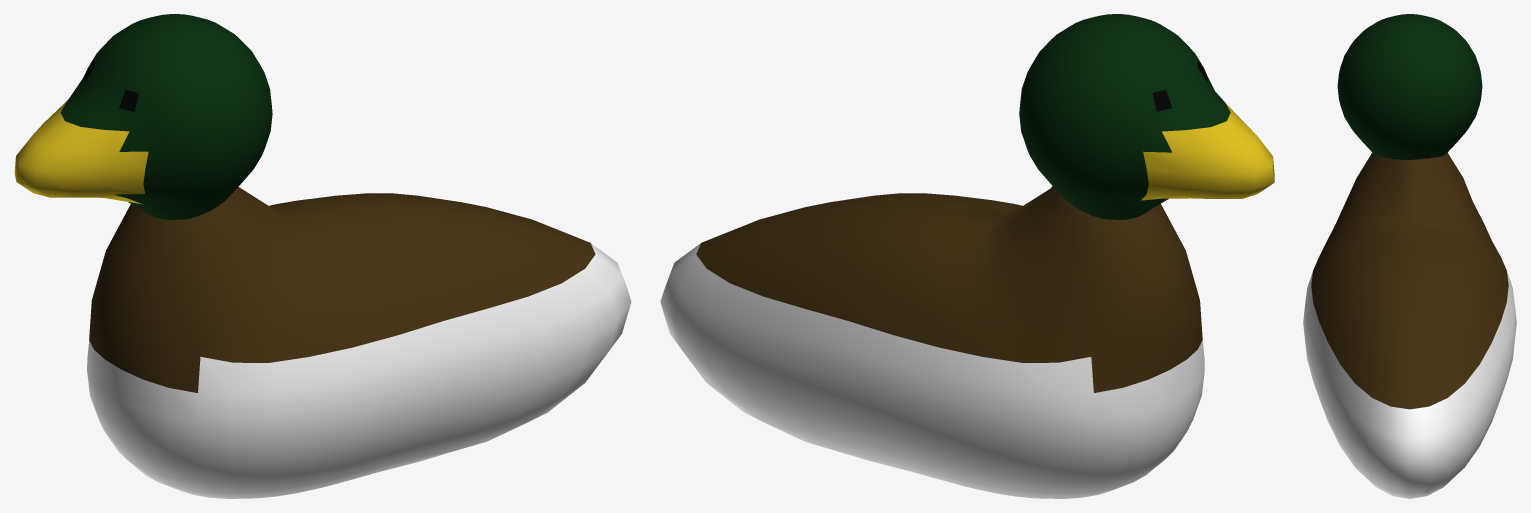
Rendered from DUCK.fbx.
The picture shows the model from 3 angles, left to right: view 1: azimuth 30°, elevation 25°; view 2: azimuth 150°, elevation 25°; view 3: azimuth 270°, elevation 25°; orthographic projection. The views are drawn at different scales.
Parts seen in each view (by area): view 1: Object004, Sphere001, Sphere002, Object; view 2: Object004, Sphere001, Sphere002, Object; view 3: Object004, Sphere001, Sphere002.
Part boxes in pixels (x1=…): Object004: x1=89, y1=187, x2=595, y2=392; Sphere001: x1=87, y1=243, x2=631, y2=498; Sphere002: x1=60, y1=14, x2=272, y2=219; Object: x1=14, y1=100, x2=148, y2=204; Object004: x1=696, y1=186, x2=1202, y2=392; Sphere001: x1=660, y1=243, x2=1204, y2=498; Sphere002: x1=1019, y1=14, x2=1230, y2=219; Object: x1=1141, y1=103, x2=1274, y2=200; Object004: x1=1311, y1=152, x2=1508, y2=409; Sphere001: x1=1303, y1=271, x2=1516, y2=498; Sphere002: x1=1337, y1=14, x2=1482, y2=159.
Size of the model in its own units: 24.46 by 18.51 by 10.
